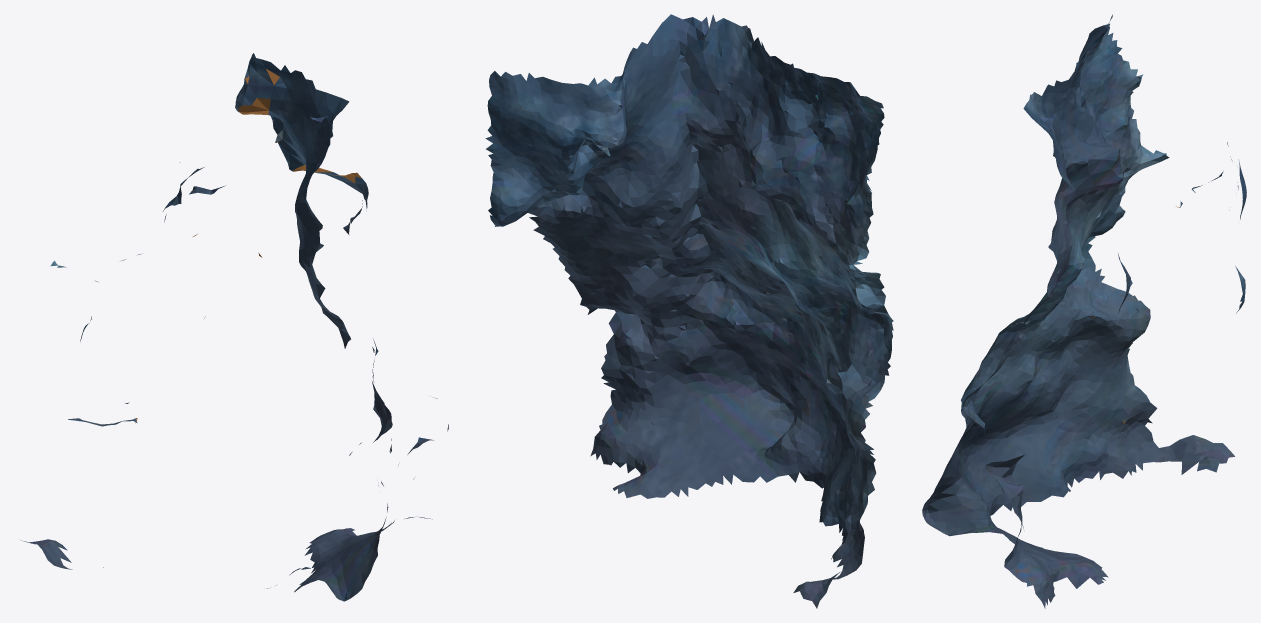
Rendered from tile_0784.gltf.
3 renders of one model, left to right at view 1: azimuth 30°, elevation 25°; view 2: azimuth 150°, elevation 25°; view 3: azimuth 270°, elevation 25°, orthographic. The views are drawn at different scales.
Parts seen in each view (by area): view 1: defaultobject; view 2: defaultobject; view 3: defaultobject.
Part boxes in pixels (box(x1,y1,x2,y2)): defaultobject: box(21, 53, 448, 601); defaultobject: box(485, 14, 893, 608); defaultobject: box(922, 14, 1246, 608).
Size of the model in its own units: 0.2891 by 0.3847 by 0.2504.
2 materials, 2 textured.
